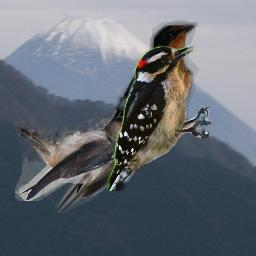Swallow: (51, 19, 200, 213), (15, 116, 146, 201)
Woodpecker: (107, 45, 212, 191)
